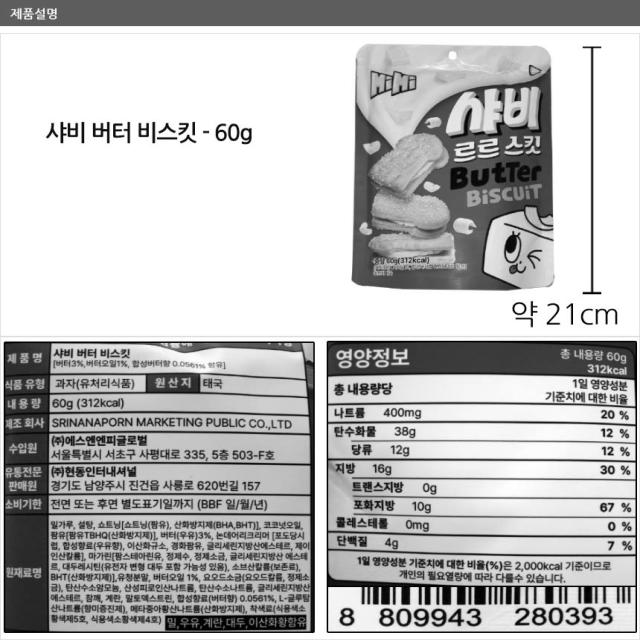Nutrition Label: (320, 333, 640, 585)
